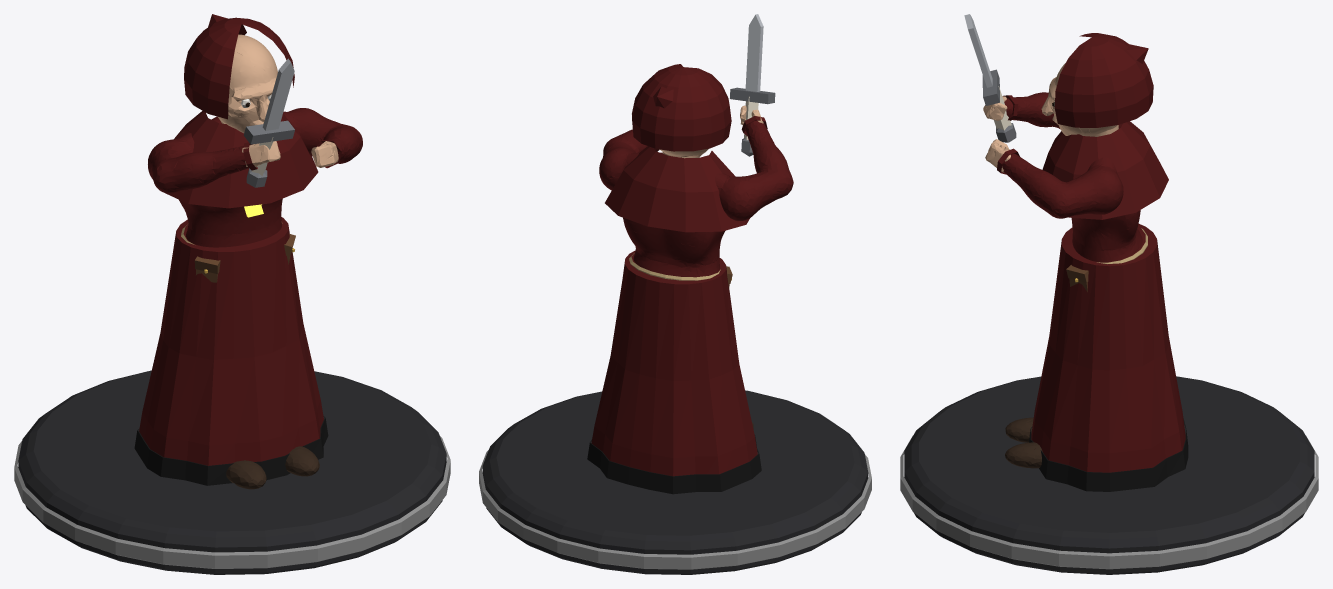
The model's file is cultist.glb.
3 views of the same model, side by side, from view 1: azimuth 30°, elevation 25°; view 2: azimuth 150°, elevation 25°; view 3: azimuth 270°, elevation 25° (orthographic). The views are drawn at different scales.
Visible parts, largest first — view 1: cultist; view 2: cultist; view 3: cultist.
Boxes of the visible parts, left/top/right/bottom form: cultist: left=14, top=14, right=450, bottom=574; cultist: left=479, top=14, right=871, bottom=574; cultist: left=900, top=14, right=1318, bottom=574.
Size of the model in its own units: 0.856 by 1.05 by 0.8498.
